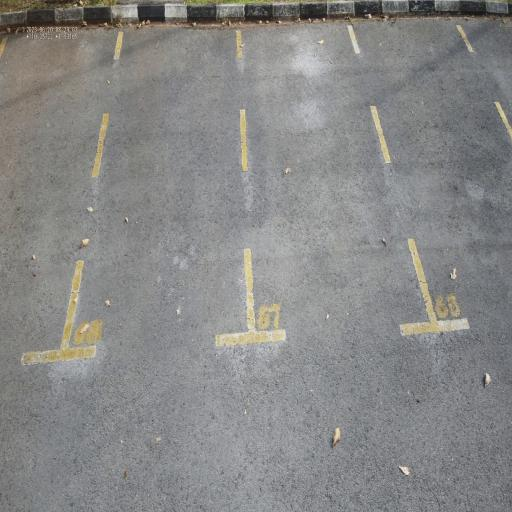Empty: (55, 14, 257, 369), (234, 18, 440, 350)
